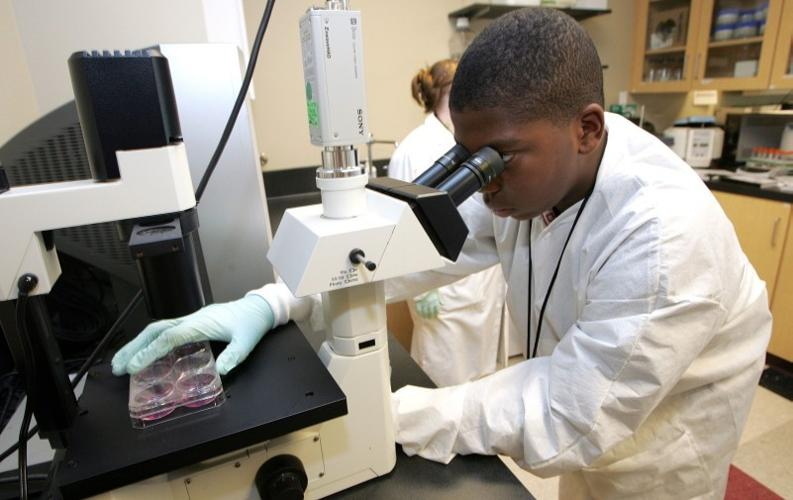person: (117, 7, 777, 500)
